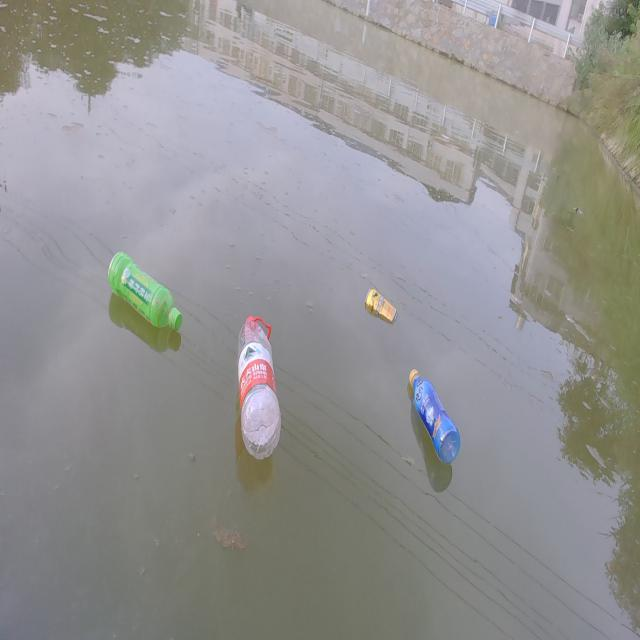bottle: (86, 212, 203, 362), (222, 289, 301, 470), (395, 342, 478, 478)
